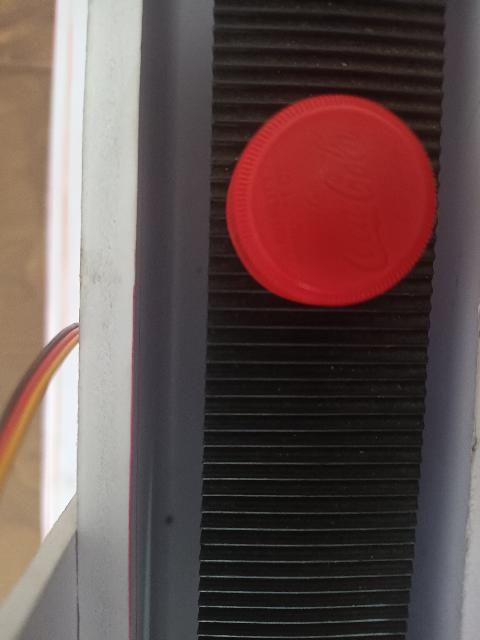bottlecap: (224, 90, 440, 310)
